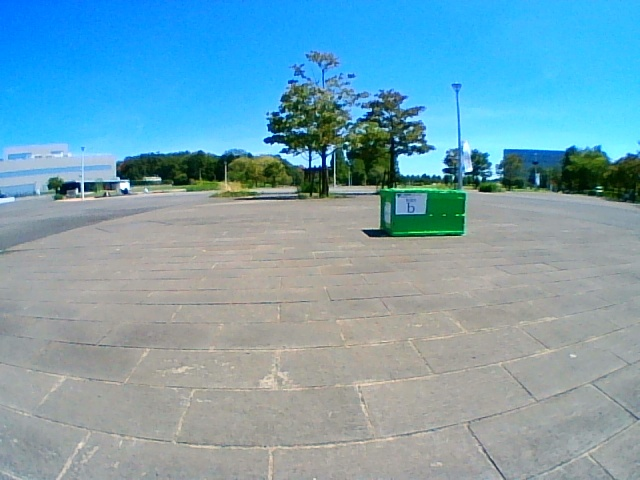green_box: (381, 188, 465, 235)
tag_b: (396, 193, 426, 214)
